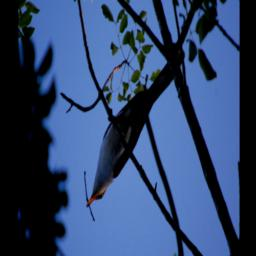Cuckoo: (84, 67, 174, 211)
